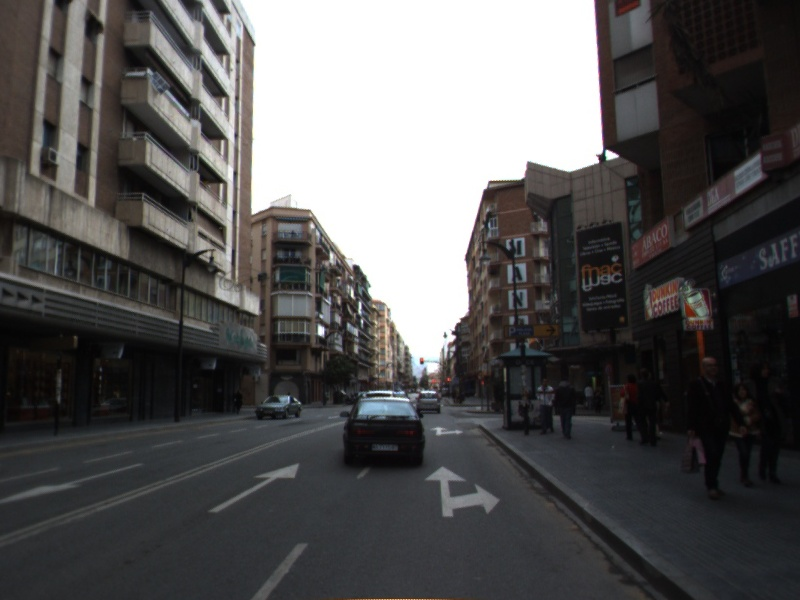STRAIGHT: (205, 461, 301, 515)
STRAIGHT_RIGHT: (422, 464, 502, 518), (428, 425, 465, 437)
